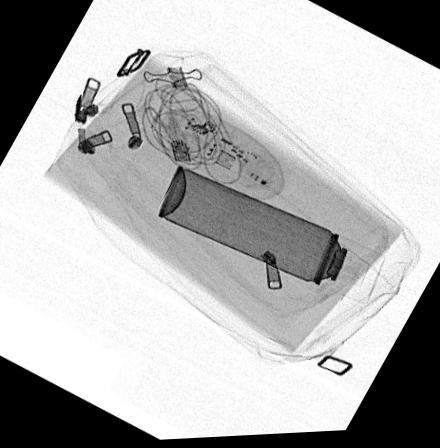Sprayer: (158, 166, 386, 307)
